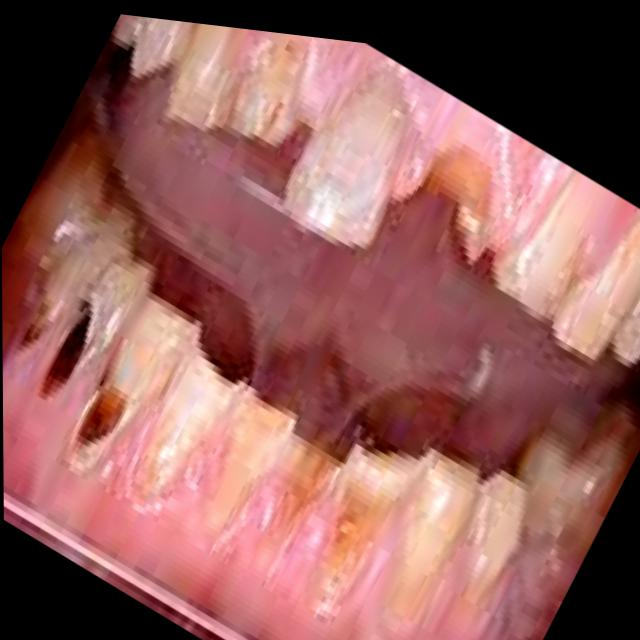cariess: (42, 257, 150, 440)
